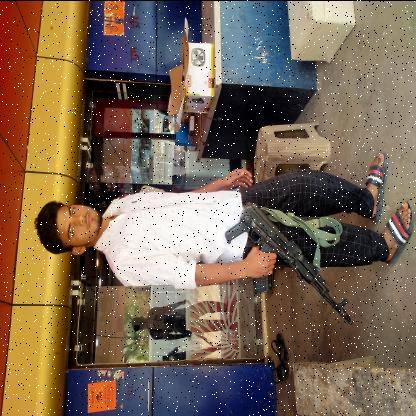rifle: (224, 199, 354, 325)
